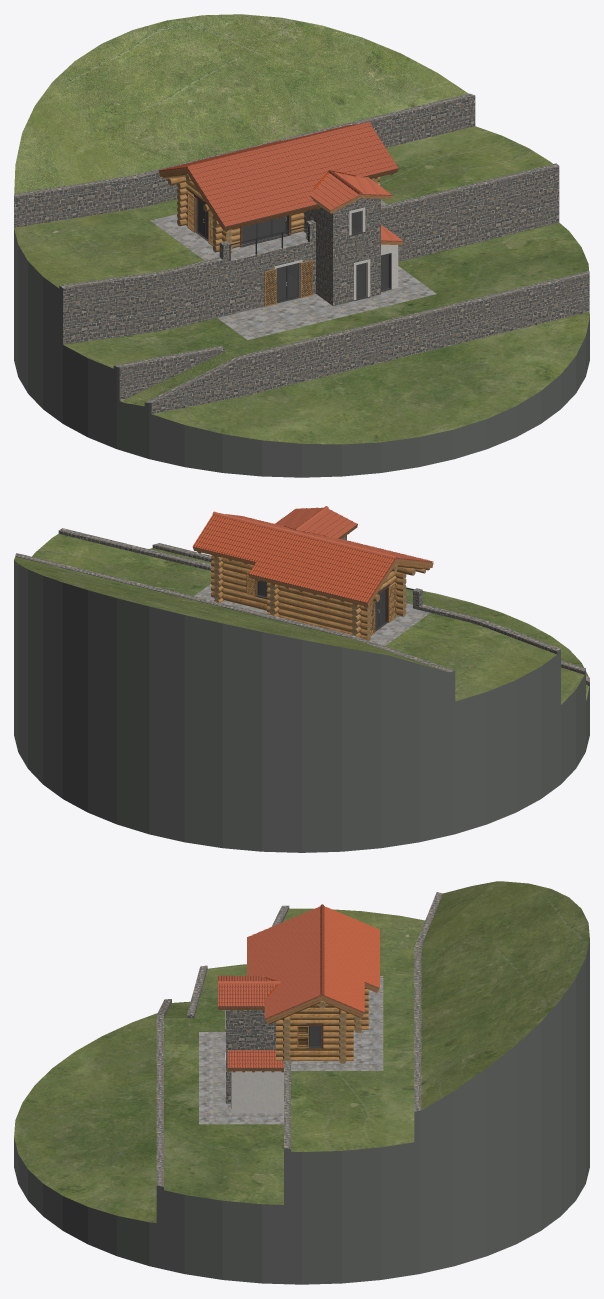
The model's file is madeira.fbx.
3 renders of one model, top to bottom at view 1: azimuth 30°, elevation 25°; view 2: azimuth 150°, elevation 25°; view 3: azimuth 270°, elevation 25°, orthographic.
Visible parts, largest first — view 1: LS-Трава зеленая, _ЦОКОЛЬ, 70-016-010_, GDLM93_syn_kora_t, ДОРОЖКА, БРЕВНО, Стекло прозрачное, ЛОБОВАЯ, ФАСАД, РАМЫ, GDLM96_Mediterran_g_syn_kora; view 2: 70-016-010_, LS-Трава зеленая, GDLM99_syn_mbar_t, БРЕВНО, _ЦОКОЛЬ, GDLM93_syn_kora_t, ДОРОЖКА, ЛОБОВАЯ, ТОРЦЫ, GDLM96_Mediterran_g_syn_kora; view 3: LS-Трава зеленая, 70-016-010_, GDLM93_syn_kora_t, _ЦОКОЛЬ, ДОРОЖКА, GDLM99_syn_mbar_t, БРЕВНО, ФАСАД, ЛОБОВАЯ, ТОРЦЫ, GDLM96_Mediterran_g_syn_kora.
Part boxes in pixels (bbox=[...]): LS-Трава зеленая: bbox=[14, 14, 589, 444]; _ЦОКОЛЬ: bbox=[14, 93, 589, 413]; 70-016-010_: bbox=[14, 228, 589, 477]; GDLM93_syn_kora_t: bbox=[188, 124, 403, 241]; ДОРОЖКА: bbox=[150, 200, 436, 339]; БРЕВНО: bbox=[162, 173, 393, 306]; Стекло прозрачное: bbox=[198, 200, 388, 300]; ЛОБОВАЯ: bbox=[159, 168, 402, 245]; ФАСАД: bbox=[274, 207, 398, 302]; РАМЫ: bbox=[197, 199, 391, 301]; GDLM96_Mediterran_g_syn_kora: bbox=[186, 121, 370, 194]; 70-016-010_: bbox=[14, 560, 589, 852]; LS-Трава зеленая: bbox=[14, 534, 589, 704]; GDLM99_syn_mbar_t: bbox=[192, 514, 395, 603]; БРЕВНО: bbox=[197, 533, 430, 639]; _ЦОКОЛЬ: bbox=[15, 528, 589, 685]; GDLM93_syn_kora_t: bbox=[225, 507, 433, 562]; ДОРОЖКА: bbox=[194, 584, 429, 646]; ЛОБОВАЯ: bbox=[193, 525, 433, 606]; ТОРЦЫ: bbox=[213, 556, 425, 640]; GDLM96_Mediterran_g_syn_kora: bbox=[212, 506, 397, 558]; LS-Трава зеленая: bbox=[14, 881, 589, 1222]; 70-016-010_: bbox=[14, 940, 589, 1284]; GDLM93_syn_kora_t: bbox=[218, 906, 321, 1068]; _ЦОКОЛЬ: bbox=[156, 892, 442, 1186]; ДОРОЖКА: bbox=[199, 976, 383, 1124]; GDLM99_syn_mbar_t: bbox=[323, 906, 379, 1012]; БРЕВНО: bbox=[230, 988, 368, 1072]; ФАСАД: bbox=[225, 1010, 283, 1113]; ЛОБОВАЯ: bbox=[218, 983, 378, 1071]; ТОРЦЫ: bbox=[283, 1002, 361, 1063]; GDLM96_Mediterran_g_syn_kora: bbox=[218, 904, 324, 994].
Size of the model in its own units: 32.26 by 14.09 by 32.28.
24 materials, 11 textured.
